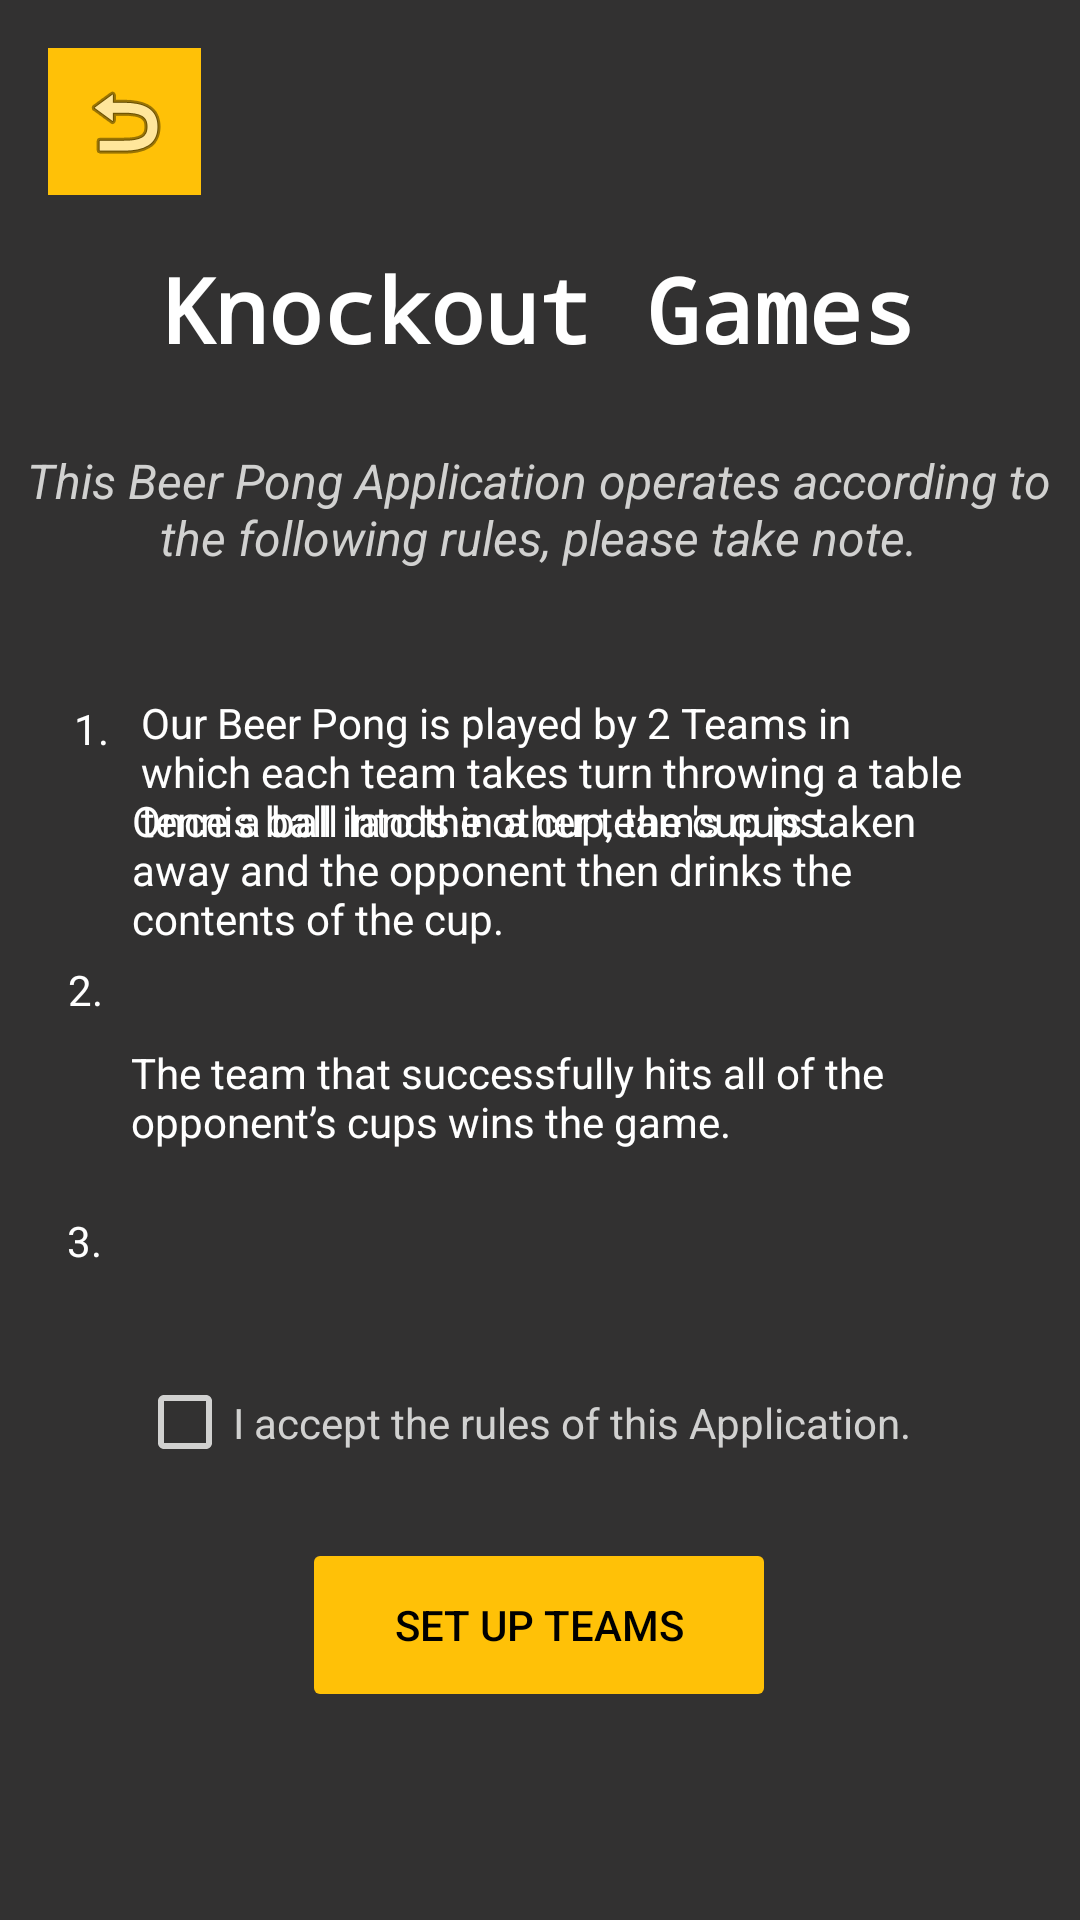

Icons on this 1080 × 1920 Android screen, each with the point to tap as [x,y]:
revert: [124,121]
